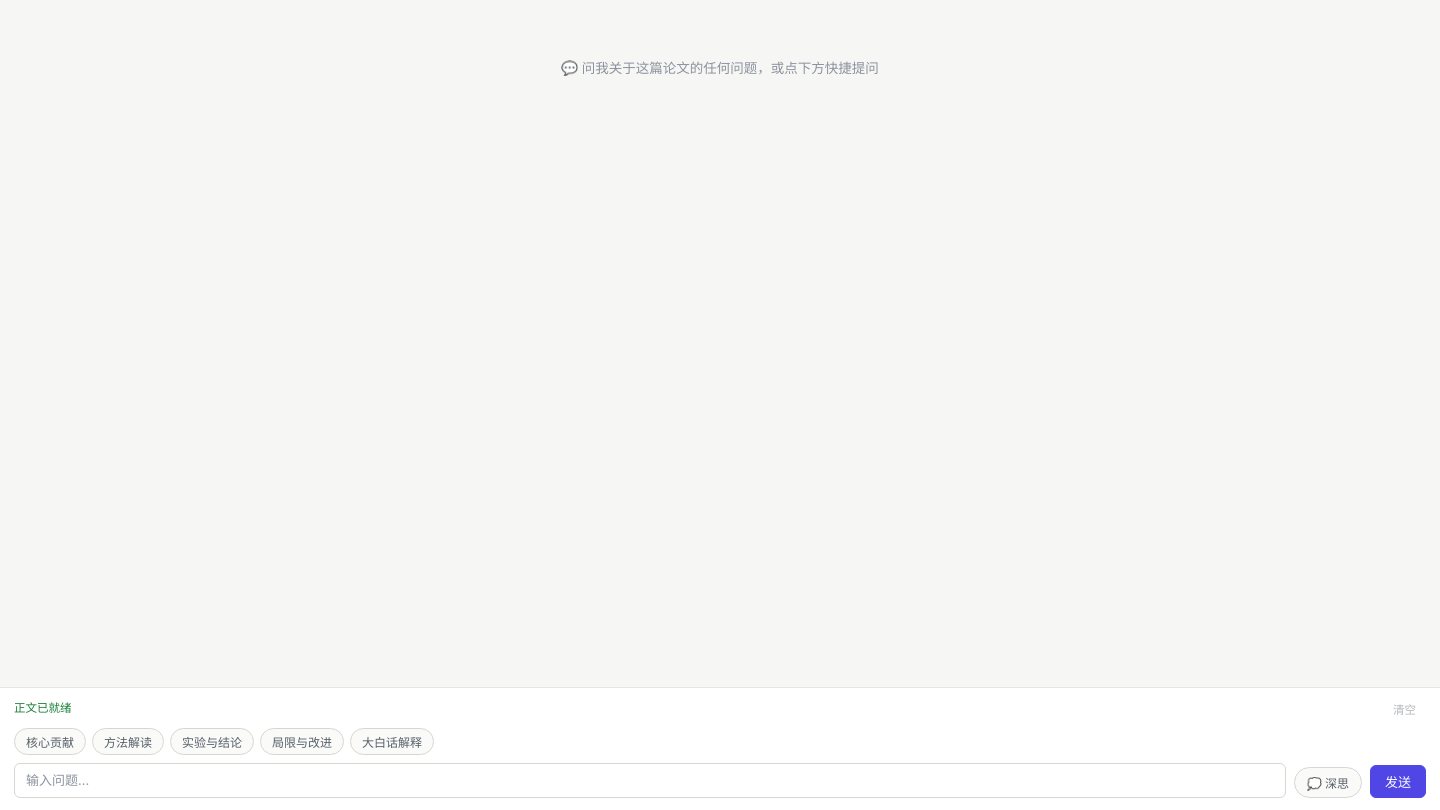
Test: ChatView › streams the assistant reply and shows the accumulated text
The width and height of the screenshot is (1440, 810).
Expected: the button "发送" is enabled, [1370,765,1426,798]
Type "讲讲贡献" into the text box with placeholder "输入问题…" at (650,780), box [14,762,1286,798]
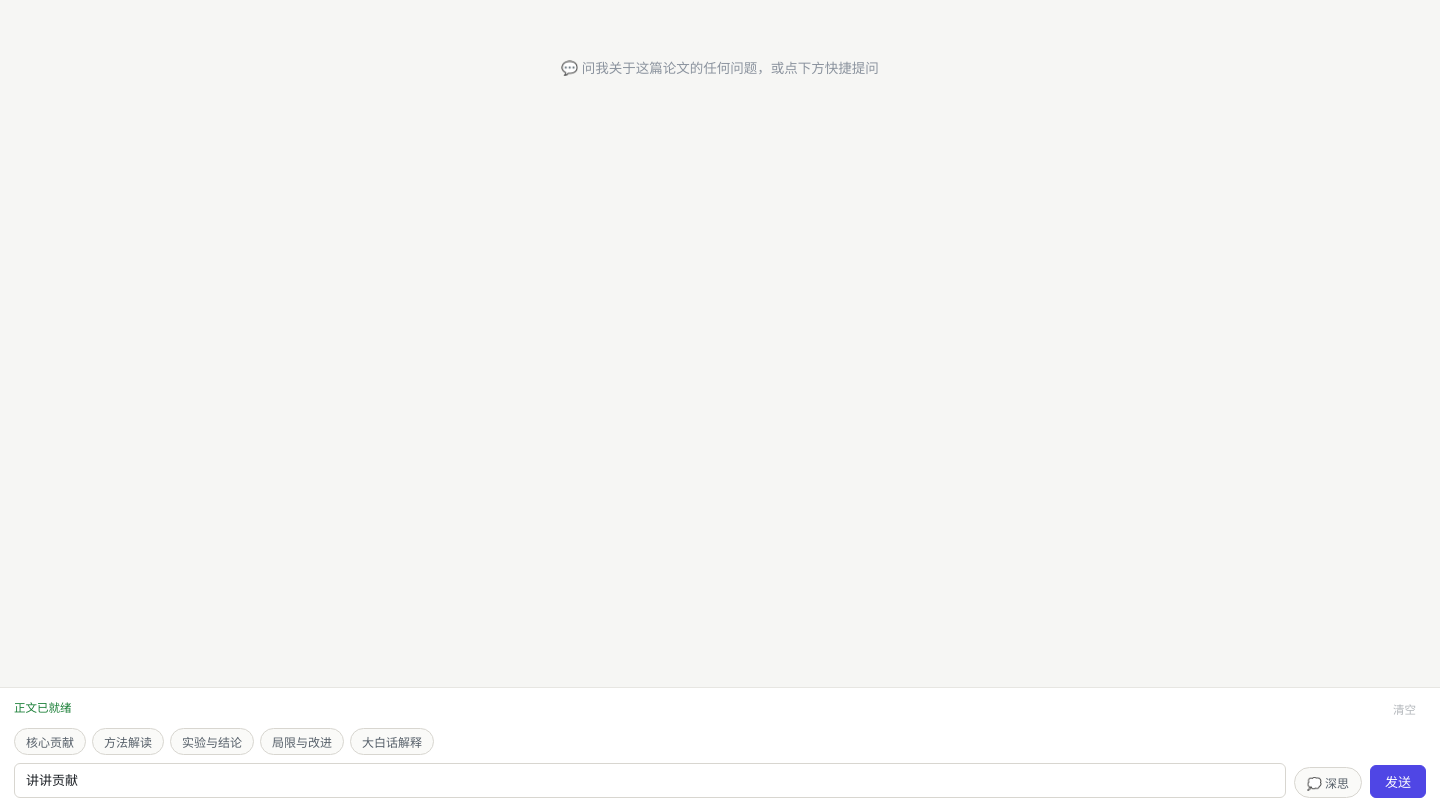
Click the button "发送" at (1398,782), box [1370,765,1426,798]
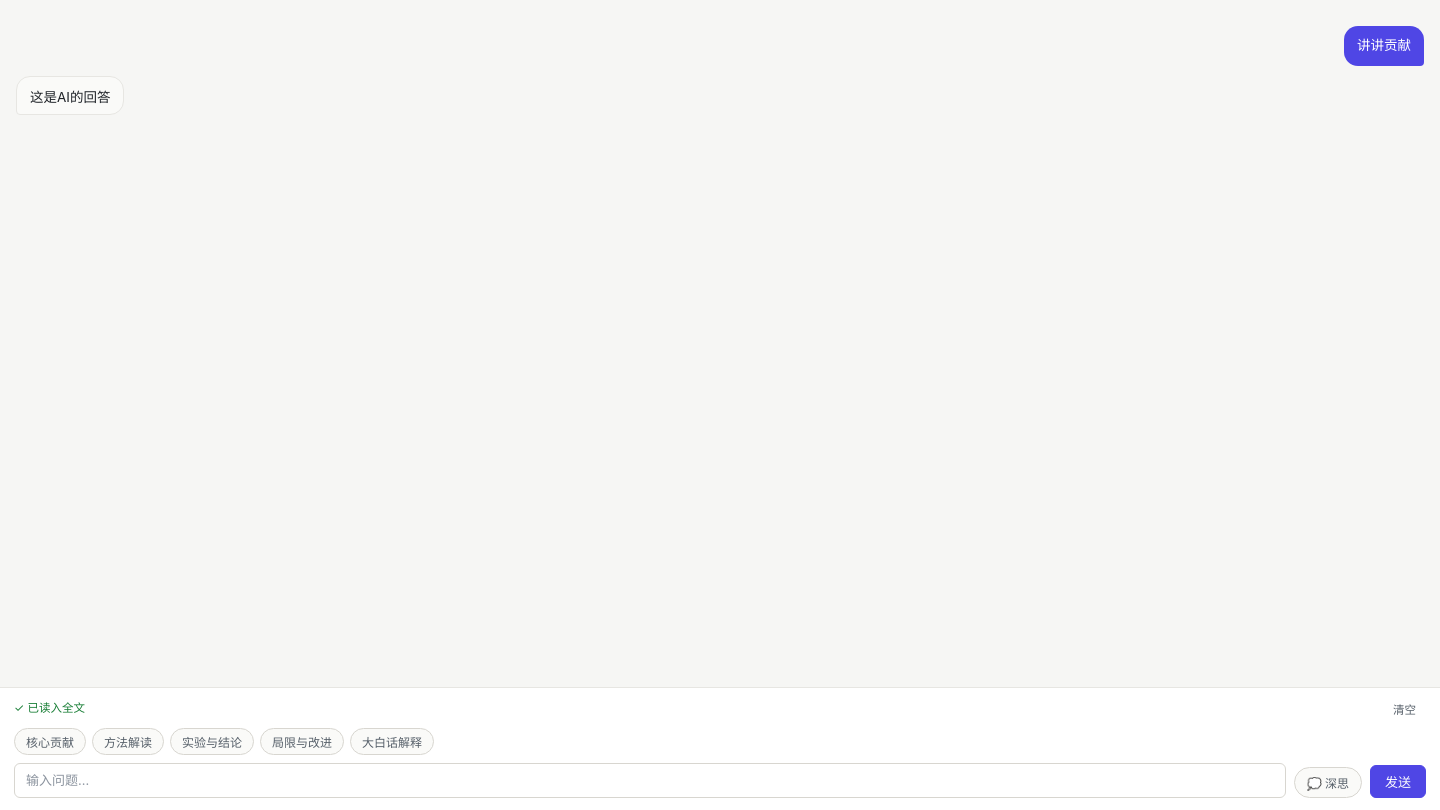
Expected: the text "讲讲贡献" is shown, [1344,26,1424,66]
Expected: the text "这是AI的回答" is shown, [30,86,110,108]
